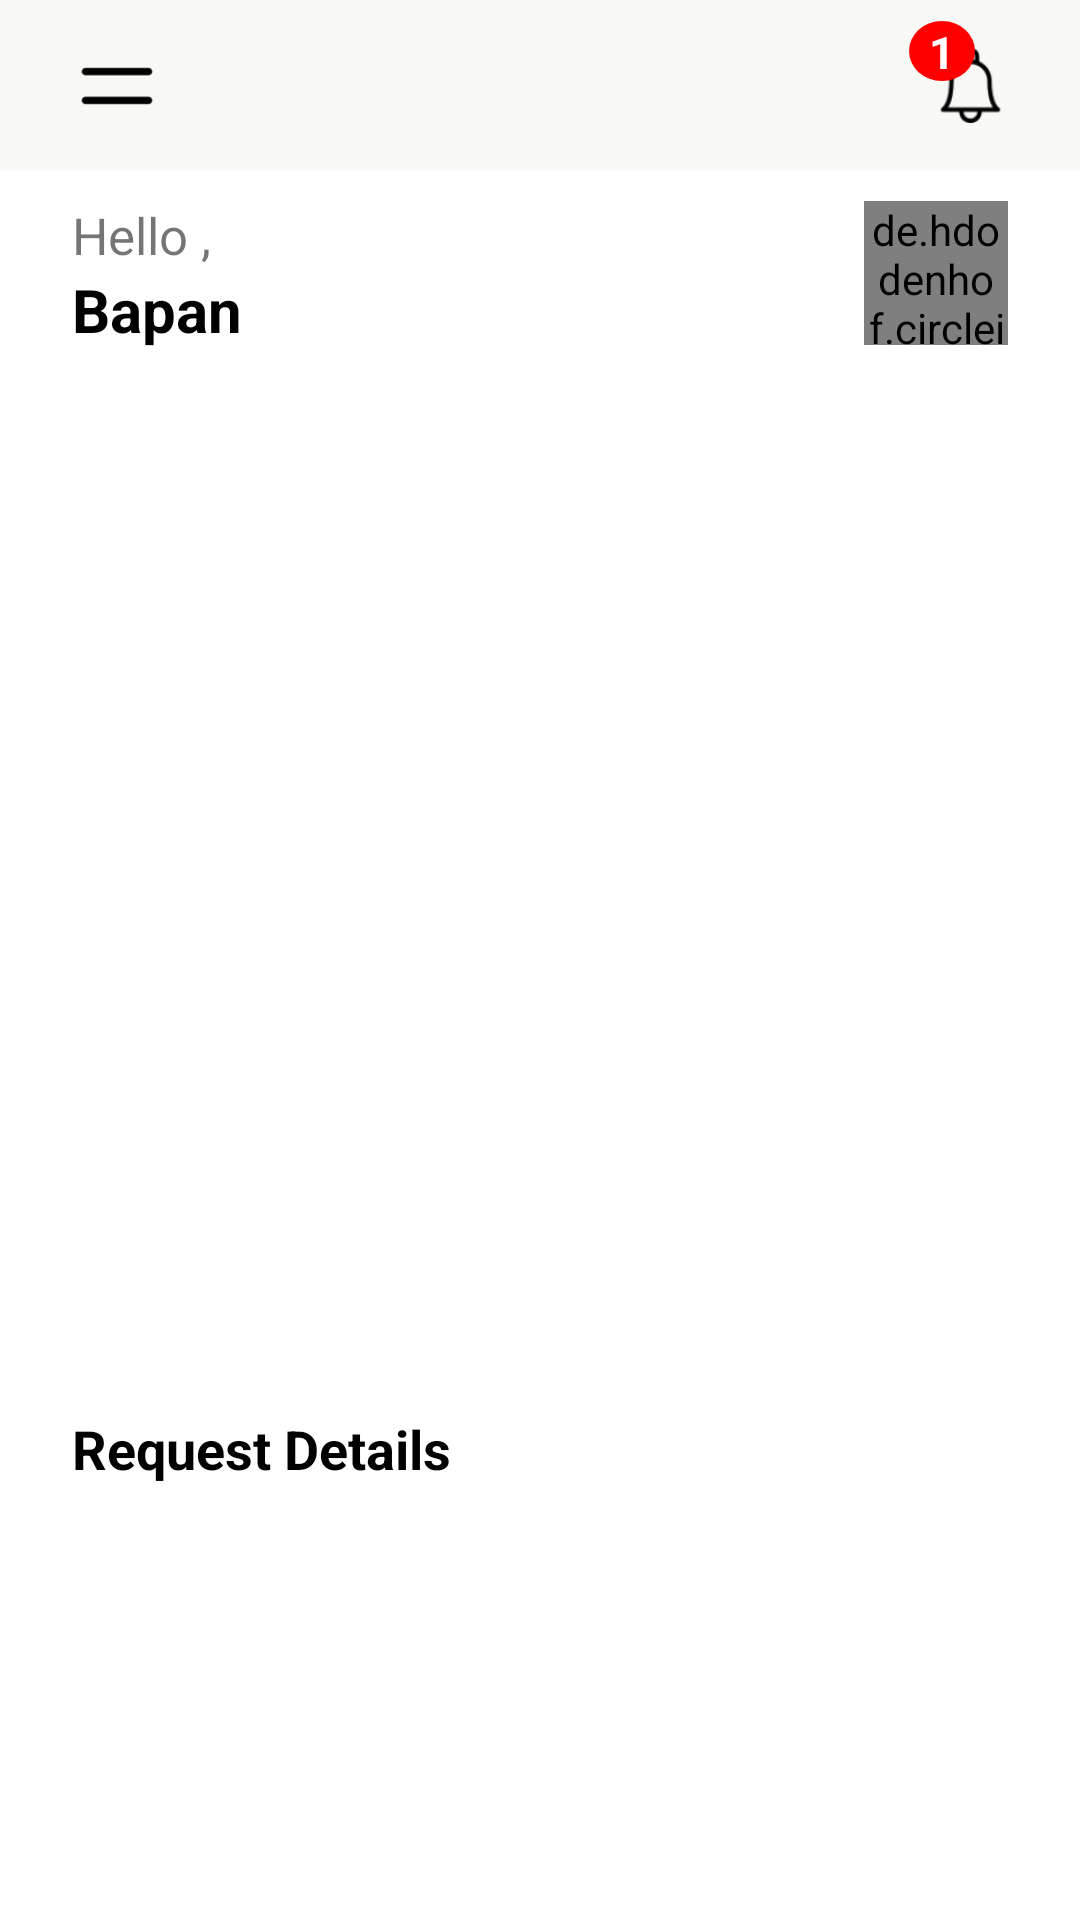

Point at icon controls on the screen. Image size 1080*1920, points as point (x, y).
bell: point (967, 85)
humbargur: point (117, 86)
